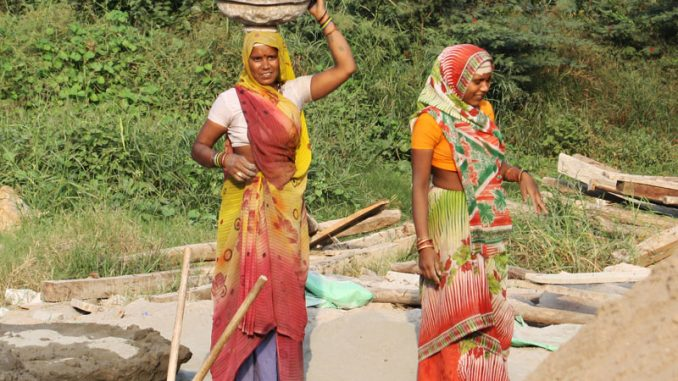Person: (191, 1, 358, 381), (412, 44, 549, 381)
